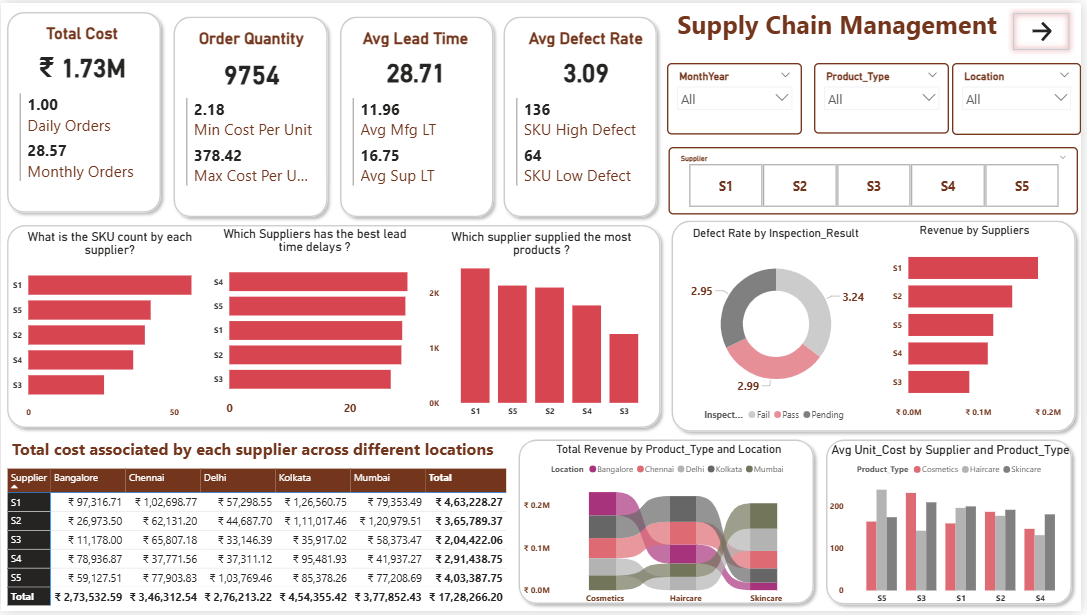

The dashboard page shown, as its layout file describes it:
{"tool":"powerbi","page":{"name":"SCM ","canvas":[1600,900],"ordinal":0},"visuals":[{"type":"group","id":"g1","title":"Group 1","box":[0,5,245,315],"z":0},{"type":"shape","box":[0,5,246,315],"z":0,"group":"g1"},{"type":"shape","box":[247.5,10,246,315],"z":0,"group":"g2"},{"type":"shape","box":[492.5,10,245,315],"z":0,"group":"g3"},{"type":"shape","box":[735,10,245,315],"z":0,"group":"g4"},{"type":"shape","box":[984.4,313.3,616.6,330.6],"z":0,"group":"g5"},{"type":"shape","box":[0,320,986,318.5],"z":0,"group":"g6"},{"type":"group","id":"g2","title":"Group 1","box":[247.5,10,247.5,315],"z":1000},{"type":"multiRowCard","fields":{"Values":["Measure.Daily Orders","Measure.Monthly Orders"]},"box":[22.7,129.4,200.6,190.6],"z":1000,"group":"g1"},{"type":"multiRowCard","fields":{"Values":["Measure.Min Cost Per Unit","Measure.Max Cost Per Unit"]},"box":[270.2,134.4,200.6,190.6],"z":1000,"group":"g2"},{"type":"multiRowCard","fields":{"Values":["Measure.Avg Manufacturing Time","Measure.Avg Supplier Lead Time"]},"box":[515.1,134.4,199.8,190.6],"z":1000,"group":"g3"},{"type":"multiRowCard","fields":{"Values":["Measure.SKU High Defect","Measure.SKU Low Defect"]},"box":[757.6,134.4,199.8,190.6],"z":1000,"group":"g4"},{"type":"barChart","title":"What is the SKU count by each supplier?","fields":{"Category":["Sheet1.Supplier"],"Y":["Measure.SKU Count"]},"box":[11.1,335.6,300,288.9],"z":1000,"group":"g6"},{"type":"shape","box":[757.8,637.8,455.6,261.5],"z":1000,"group":"g7"},{"type":"shape","box":[1213.3,637.8,382.2,262.2],"z":1000,"group":"g8"},{"type":"group","id":"g3","title":"Group 1","box":[492.5,10,245,315],"z":2000},{"type":"barChart","title":"Which Suppliers has the best lead time delays ?","fields":{"Category":["Sheet1.Supplier"],"Y":["Measure.Avg Lead Time"]},"box":[309.9,332,311.6,290.5],"z":2000,"group":"g6"},{"type":"group","id":"g4","title":"Group 1","box":[735,10,245,315],"z":3000},{"type":"columnChart","title":"Which supplier supplied the most products ?","fields":{"Category":["Sheet1.Supplier"],"Y":["Measure.Order Quantity"]},"box":[628.6,336,343.3,286.5],"z":3000,"group":"g6"},{"type":"card","title":"Total Cost","fields":{"Values":["Measure.Total Cost"]},"box":[12,30.9,218.3,95.6],"z":3001,"group":"g1"},{"type":"card","title":"Order Quantity","fields":{"Values":["Measure.Order Quantity"]},"box":[260.2,36.1,222.3,101.9],"z":3001,"group":"g2"},{"type":"card","title":"Avg Lead Time","fields":{"Values":["Measure.Avg Lead Time"]},"box":[493.8,36.4,237.3,97.7],"z":3001,"group":"g3"},{"type":"card","title":"Avg Defect Rate","fields":{"Values":["Measure.Avg Defect Rate"]},"box":[754,36.4,221.8,97.7],"z":3001,"group":"g4"},{"type":"group","id":"g5","title":"Group 1","box":[984.4,313.3,615.6,331.1],"z":4000},{"type":"donutChart","title":"Defect Rate by Inspection_Result","fields":{"Category":["Sheet1.Inspection_Result"],"Y":["Measure.Avg Defect Rate"]},"box":[1004.4,331.1,286.7,297.8],"z":5000},{"type":"group","id":"g6","title":"Group 2","box":[0,320,986,318.5],"z":6000},{"type":"barChart","title":"Revenue by Suppliers","fields":{"Category":["Sheet1.Supplier"],"Y":["Sum(Sheet1.Revenue)"]},"box":[1308.9,326.7,266.7,297.8],"z":7000},{"type":"pivotTable","fields":{"Rows":["Sheet1.Supplier"],"Columns":["Sheet1.Location"],"Values":["Measure.Total Cost"]},"box":[4.4,684.4,753.3,215.6],"z":8000},{"type":"textbox","box":[12,638,758,46],"z":9000},{"type":"textbox","box":[984,0,508,78],"z":10000},{"type":"slicer","fields":{"Values":["Calendar.MonthYear"]},"box":[986,88,200,106],"z":11000},{"type":"ribbonChart","title":"Total Revenue by Product_Type and Location","fields":{"Category":["Sheet1.Product_Type"],"Y":["Sum(Sheet1.Revenue)"],"Series":["Sheet1.Location"]},"box":[769.4,651.6,441,248.4],"z":11000,"group":"g7"},{"type":"slicer","fields":{"Values":["Sheet1.Supplier"]},"box":[988.9,213.3,606.7,100],"z":12000},{"type":"slicer","fields":{"Values":["Sheet1.Product_Type"]},"box":[1204.4,88.9,200,104.4],"z":13000},{"type":"slicer","fields":{"Values":["Sheet1.Location"]},"box":[1408.9,88.9,191.1,106.7],"z":14000},{"type":"actionButton","box":[1491.1,6.7,100,71.1],"z":15000},{"type":"group","id":"g7","title":"Group 3","box":[757.8,637.8,455.6,262.2],"z":16000},{"type":"group","id":"g8","title":"Group 3","box":[1213.3,637.8,382.2,262.2],"z":17000},{"type":"clusteredColumnChart","title":"Avg Unit_Cost by Supplier and Product_Type","fields":{"Y":["Avg(Sheet1.Unit_Cost)"],"Category":["Sheet1.Supplier"],"Series":["Sheet1.Product_Type"]},"box":[1222.2,651.1,368.9,248.9],"z":18000}]}

Visuals, with their boxes in screenshot pixels (x1, y1, x2, y2), scaled from the page's 1600x900 canvas onto the 1087x615 screenshot:
"Group 1" group: [0, 3, 166, 219]
shape: [0, 3, 167, 219]
shape: [168, 7, 335, 222]
shape: [335, 7, 501, 222]
shape: [499, 7, 666, 222]
shape: [669, 214, 1086, 440]
shape: [0, 219, 670, 436]
"Group 1" group: [168, 7, 336, 222]
multiRowCard - Measure.Daily Orders x Measure.Monthly Orders: [15, 88, 152, 219]
multiRowCard - Measure.Min Cost Per Unit x Measure.Max Cost Per Unit: [184, 92, 320, 222]
multiRowCard - Measure.Avg Manufacturing Time x Measure.Avg Supplier Lead Time: [350, 92, 486, 222]
multiRowCard - Measure.SKU High Defect x Measure.SKU Low Defect: [515, 92, 650, 222]
"What is the SKU count by each supplier?" barChart: [8, 229, 211, 427]
shape: [515, 436, 824, 614]
shape: [824, 436, 1084, 614]
"Group 1" group: [335, 7, 501, 222]
"Which Suppliers has the best lead time delays ?" barChart: [211, 227, 422, 425]
"Group 1" group: [499, 7, 666, 222]
"Which supplier supplied the most products ?" columnChart: [427, 230, 660, 425]
"Total Cost" card: [8, 21, 156, 86]
"Order Quantity" card: [177, 25, 328, 94]
"Avg Lead Time" card: [335, 25, 497, 92]
"Avg Defect Rate" card: [512, 25, 663, 92]
"Group 1" group: [669, 214, 1086, 440]
"Defect Rate by Inspection_Result" donutChart: [682, 226, 877, 430]
"Group 2" group: [0, 219, 670, 436]
"Revenue by Suppliers" barChart: [889, 223, 1070, 427]
pivotTable - Sheet1.Supplier x Sheet1.Location: [3, 468, 515, 614]
textbox: [8, 436, 523, 467]
textbox: [669, 0, 1014, 53]
slicer - Calendar.MonthYear: [670, 60, 806, 133]
"Total Revenue by Product_Type and Location" ribbonChart: [523, 445, 822, 614]
slicer - Sheet1.Supplier: [672, 146, 1084, 214]
slicer - Sheet1.Product_Type: [818, 61, 954, 132]
slicer - Sheet1.Location: [957, 61, 1086, 134]
actionButton: [1013, 5, 1081, 53]
"Group 3" group: [515, 436, 824, 614]
"Group 3" group: [824, 436, 1084, 614]
"Avg Unit_Cost by Supplier and Product_Type" clusteredColumnChart: [830, 445, 1081, 614]
